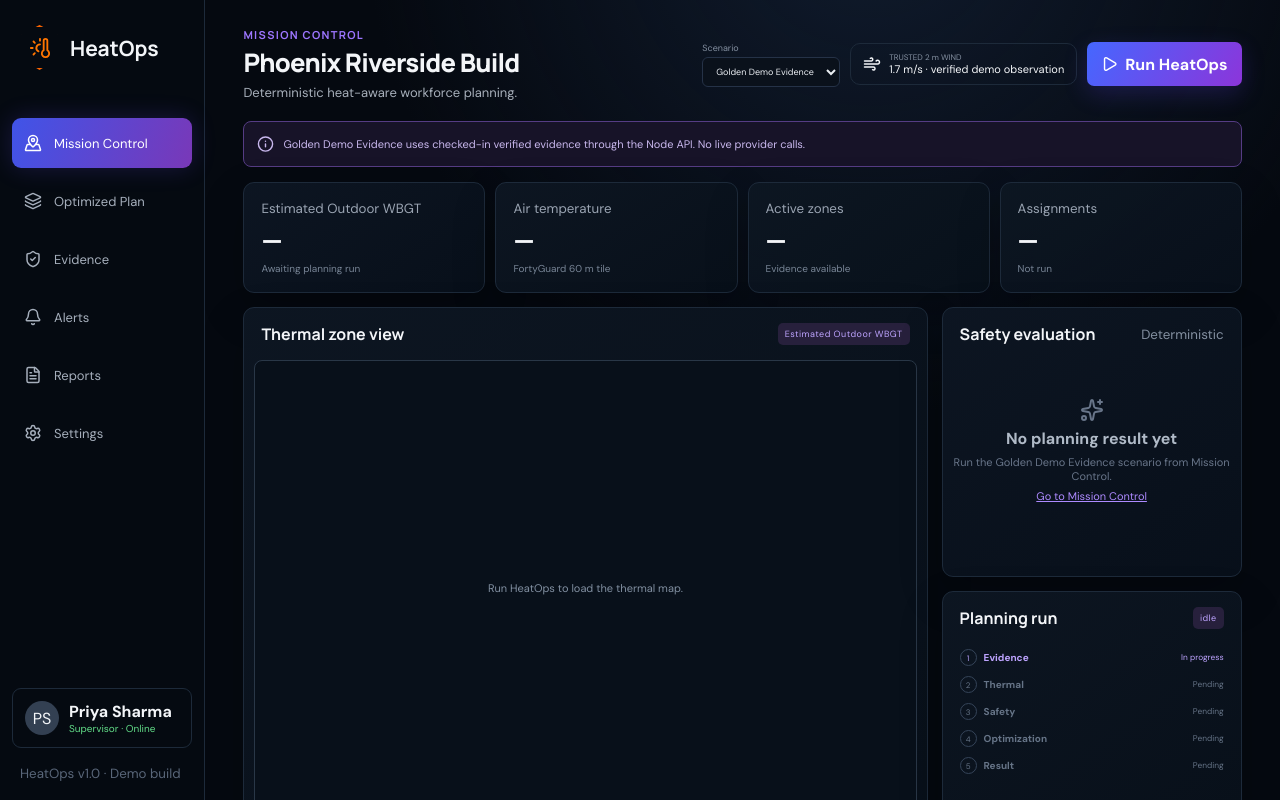
Scenario: HeatOps application navigation › runs checked-in demo evidence through the Node endpoint and opens the plan
Click the button "Run HeatOps" at [1164, 64], box [1087,42,1242,86]
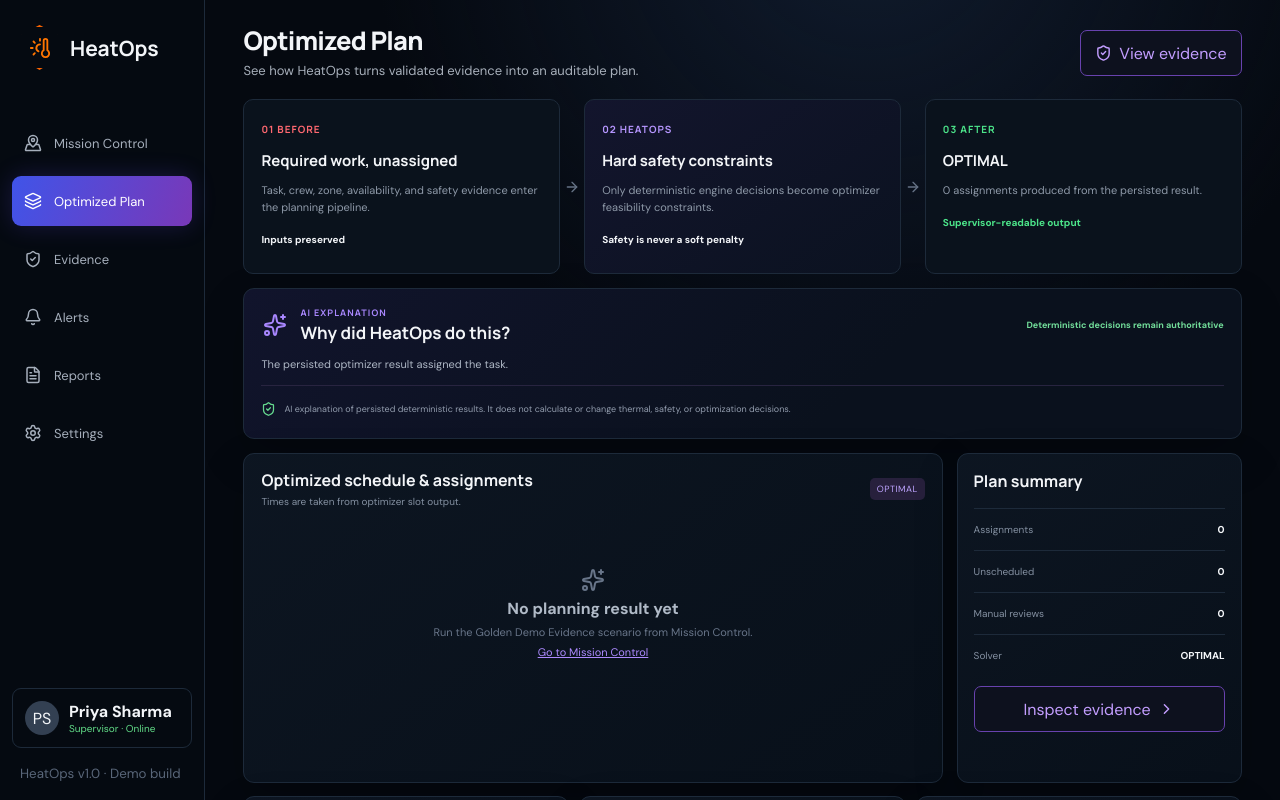
Check: the heading "Optimized Plan" is shown, box [243,23,423,58]
Check: the number of headings "OPTIMAL" is 3, box [943,150,1008,171]; [870,478,925,500]; [1180,649,1225,662]
Check: the text "The persisted optimizer result assigned the task." is shown, box [261,357,508,371]
